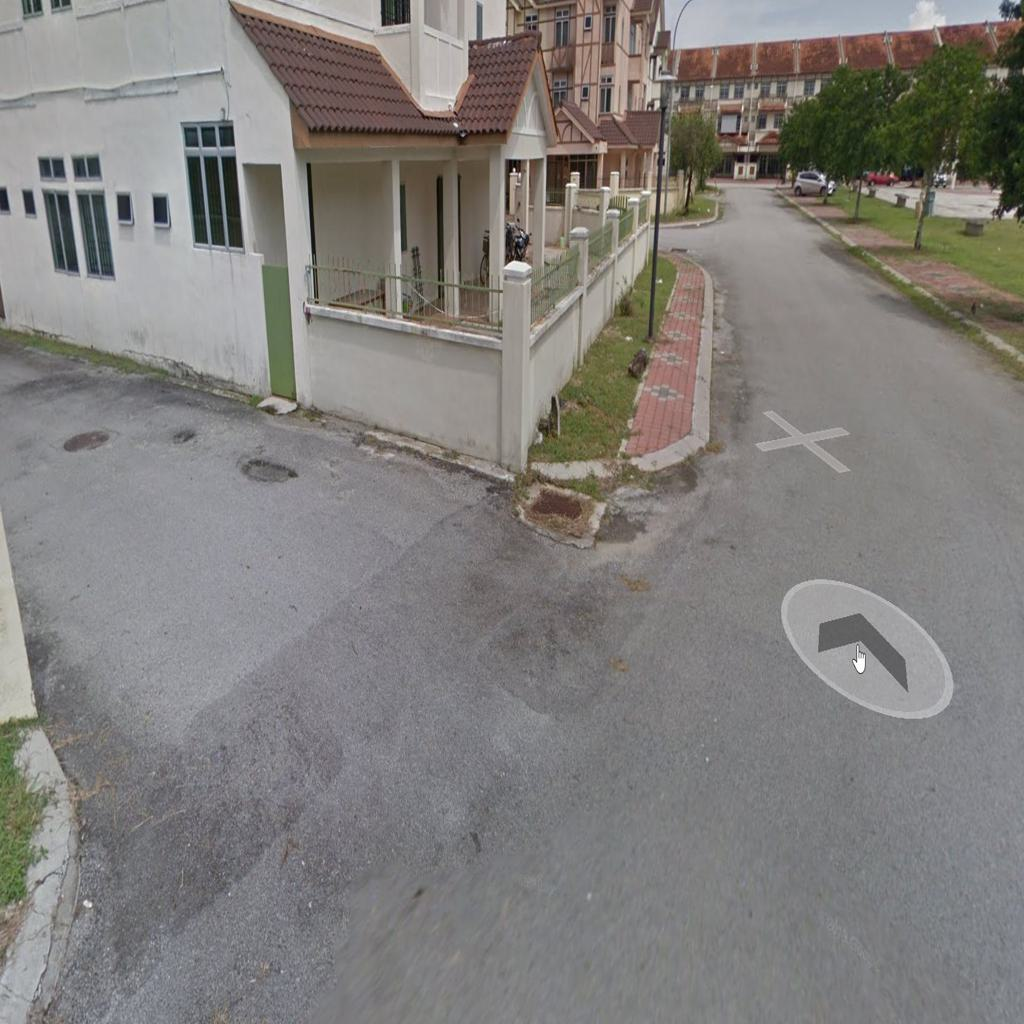Junction: (8, 327, 661, 938)
